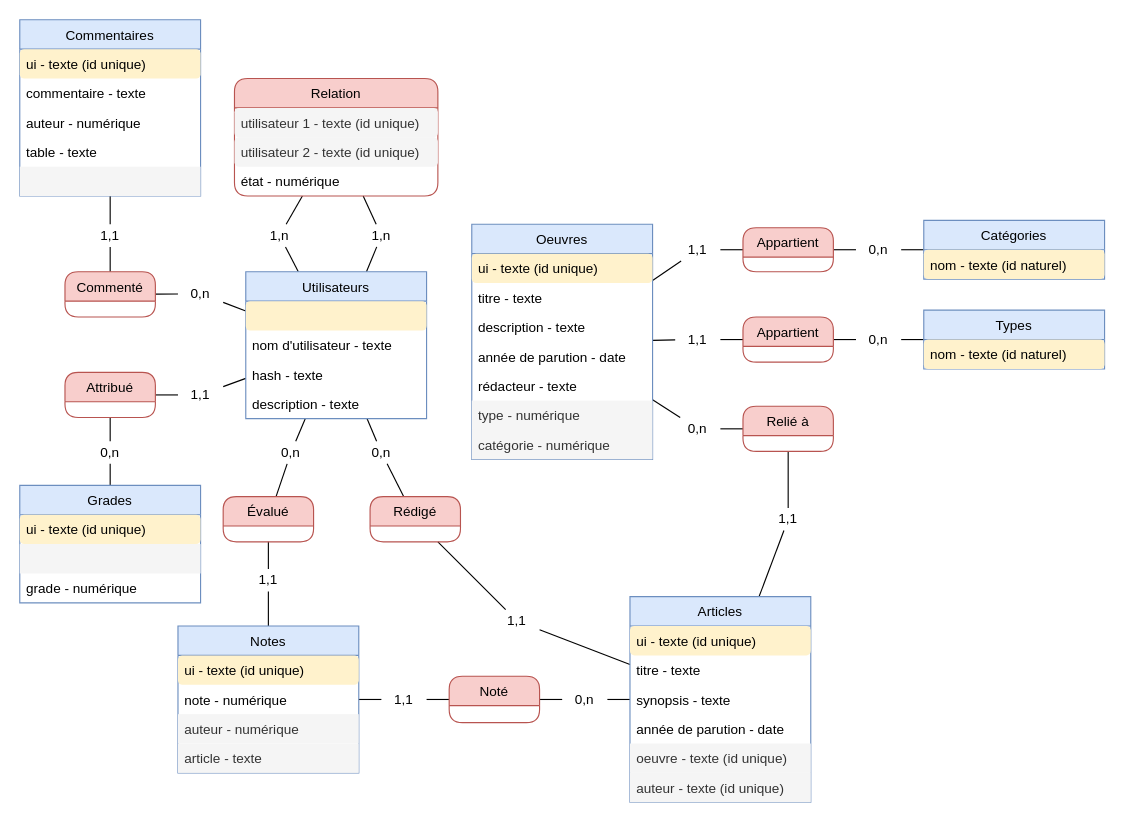
The diagram is 1124 pixels wide and 825 high, and some of its shapes have lost their labels. The centre of each missing label's shape, as x and y in pixels:
email - texte (id naturel): (x=335, y=315)
ui - texte: (x=109, y=180)
utilisateur - texte (id unique): (x=109, y=558)
